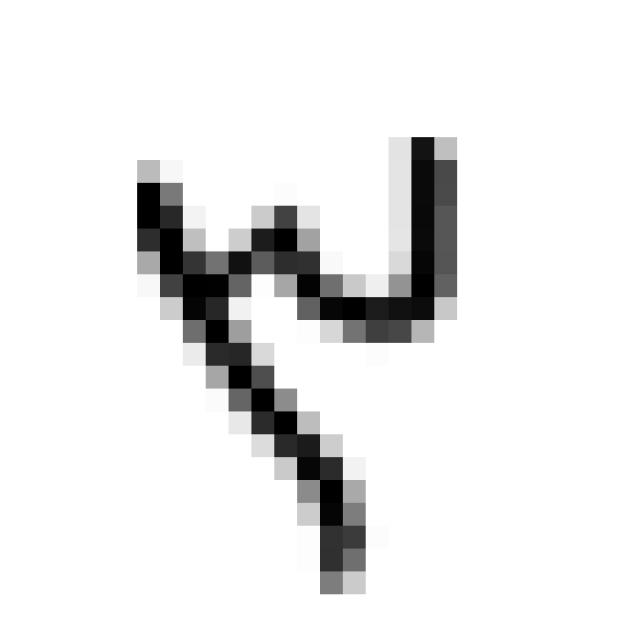3 -three-: (114, 114, 462, 598)
